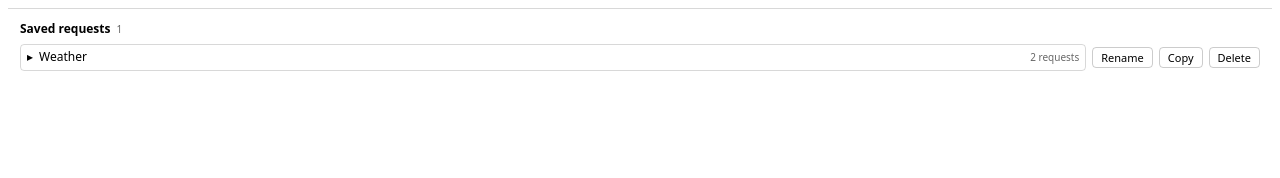
it: CollectionTree delete, rename and copy › copies a collection and reveals the copy
Expected: the text "Weather" is shown, [39,48,87,65]
Step 1. Click the button "Copy" → (1181, 57), box [1159,46,1203,68]
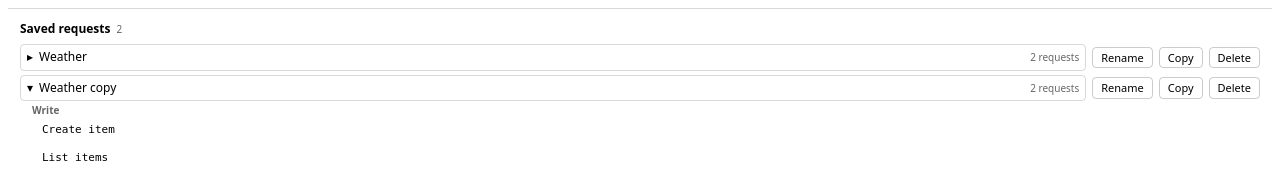
Expected: the text "Weather copy" is shown, [39,79,116,96]
